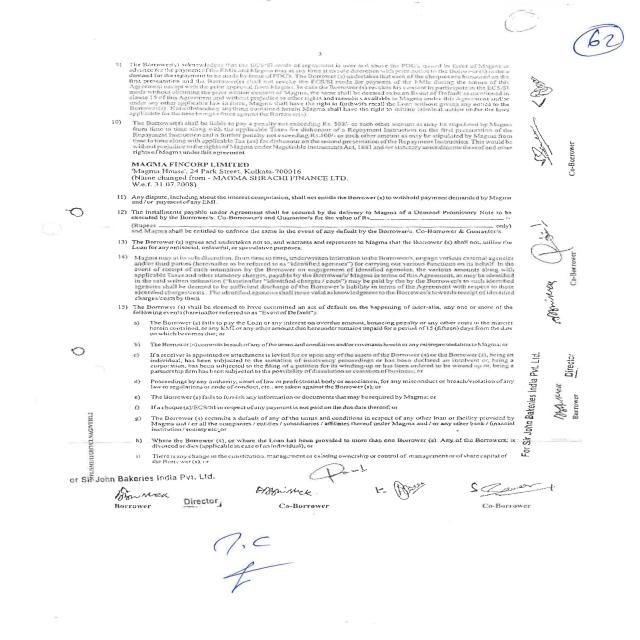page-number: (541, 2, 637, 81)
